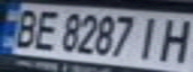2: (75, 10, 100, 55)
7: (109, 12, 142, 60)
8: (54, 9, 84, 54), (93, 11, 118, 57)
B: (3, 6, 45, 49)
E: (27, 7, 63, 52)
H: (151, 15, 193, 64)
I: (133, 14, 172, 62)
